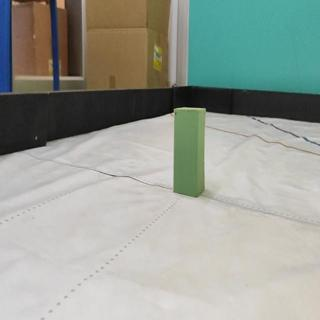greenbox: (171, 106, 208, 198)
